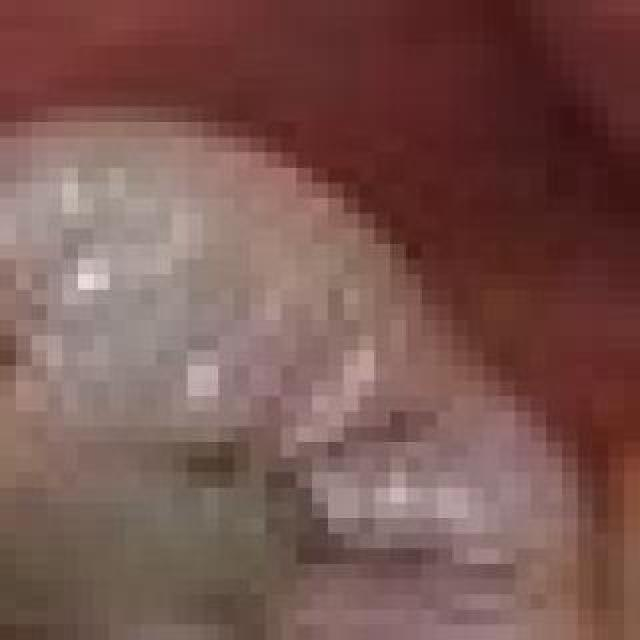cavities: (0, 316, 420, 640)
